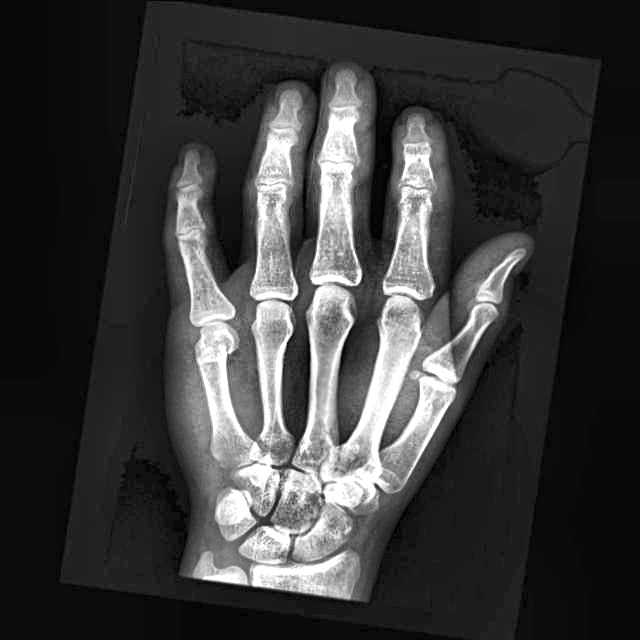Comminuted: (188, 313, 242, 374)
